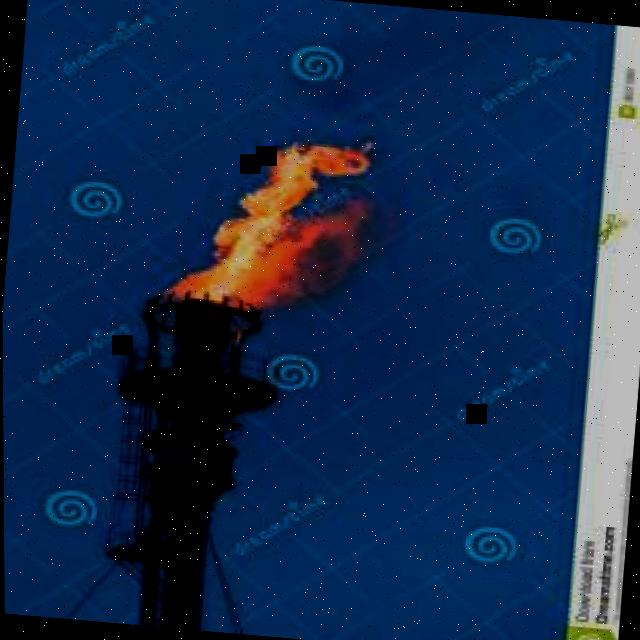fire: (160, 142, 378, 308)
